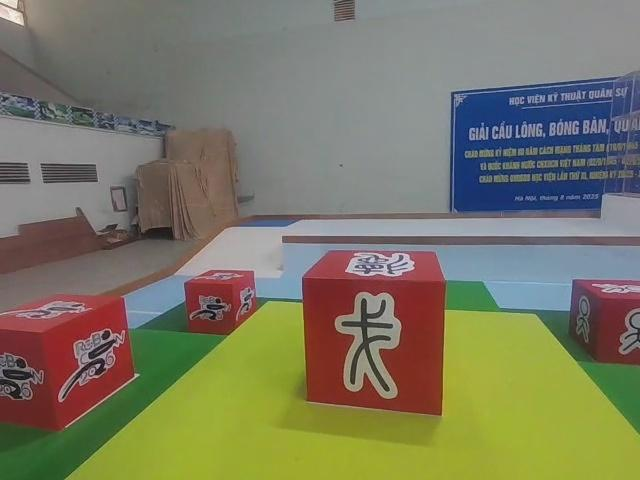R1: (0, 287, 138, 435), (181, 265, 257, 339)
R2 Fake: (298, 248, 449, 419)
R2 Real: (566, 274, 640, 369)
